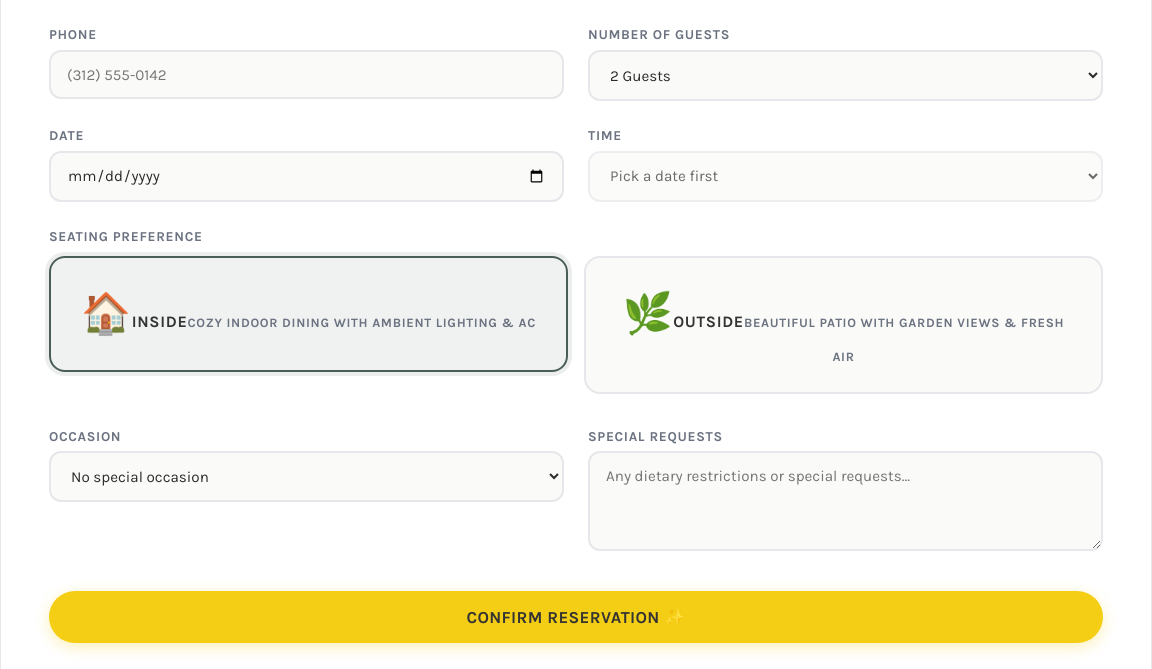
BookingForm › shows validation errors when submitting empty form
(page scrolled)
Click the button "Confirm Reservation ✨". click: [576, 617]
box: [49,591,1103,643]
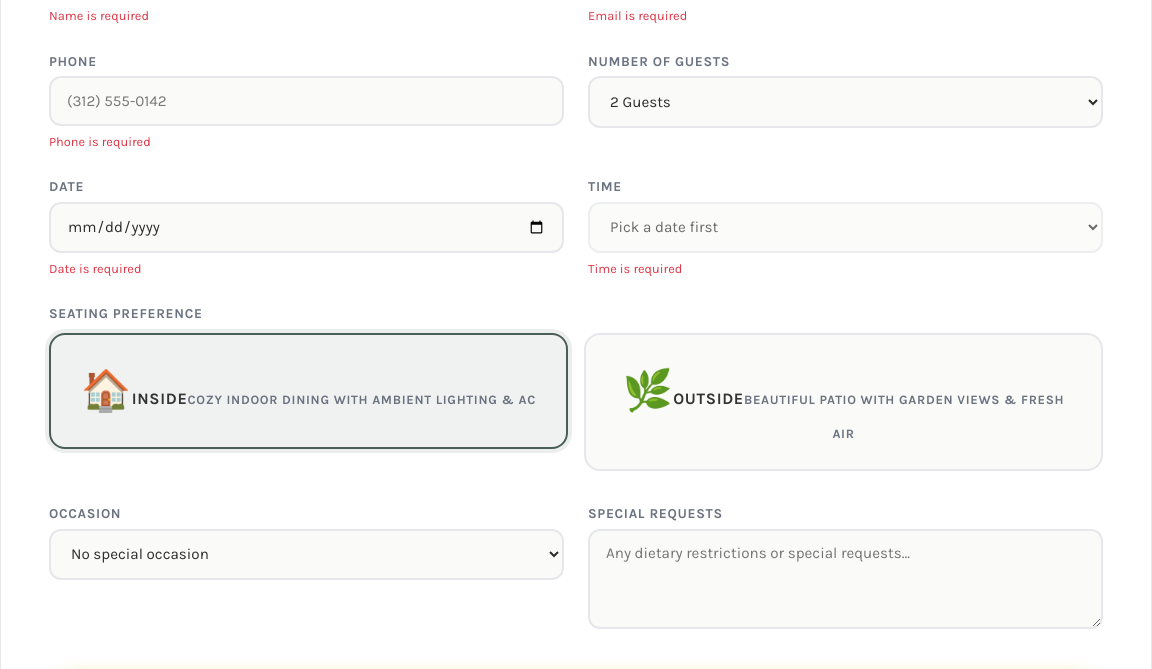
Expected: the text "Name is required" is shown, [49,8,149,23]
Expected: the text "Email is required" is shown, [588,8,687,23]
Expected: the text "Phone is required" is shown, [49,134,151,149]
